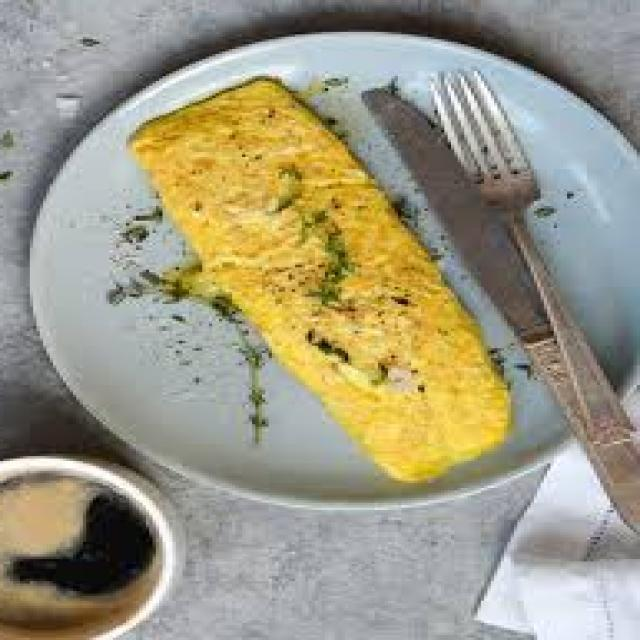telur_ayam_dadar: (129, 78, 514, 486)
